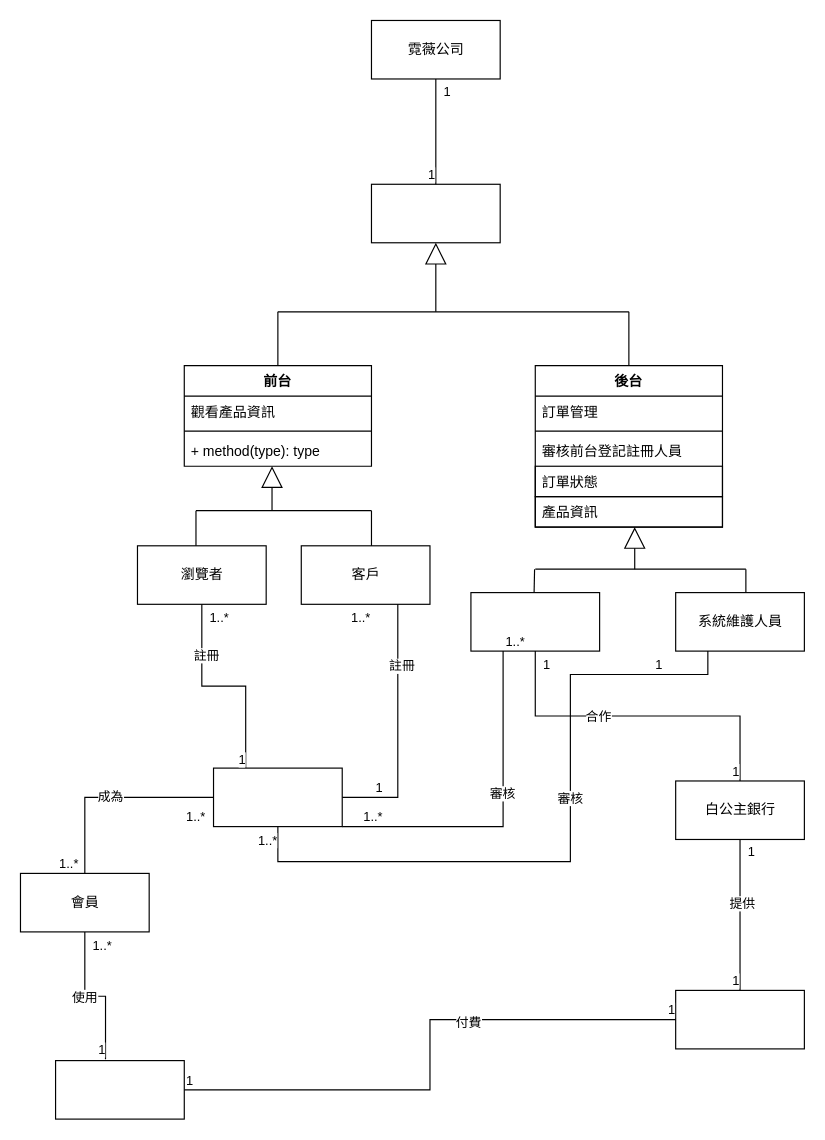
Image size: 825x1140. Some labels were removed from this diagram. The shapes that lost their labels are listed below. From the top down, each one's centre as x and y in pixels, then its label:
At pixel 435 213: "購買平台系統".
At pixel 535 621: "公司人員".
At pixel 277 797: "申請會員".
At pixel 739 1019: "金流驗證系統".
At pixel 119 1089: "購物車功能".
